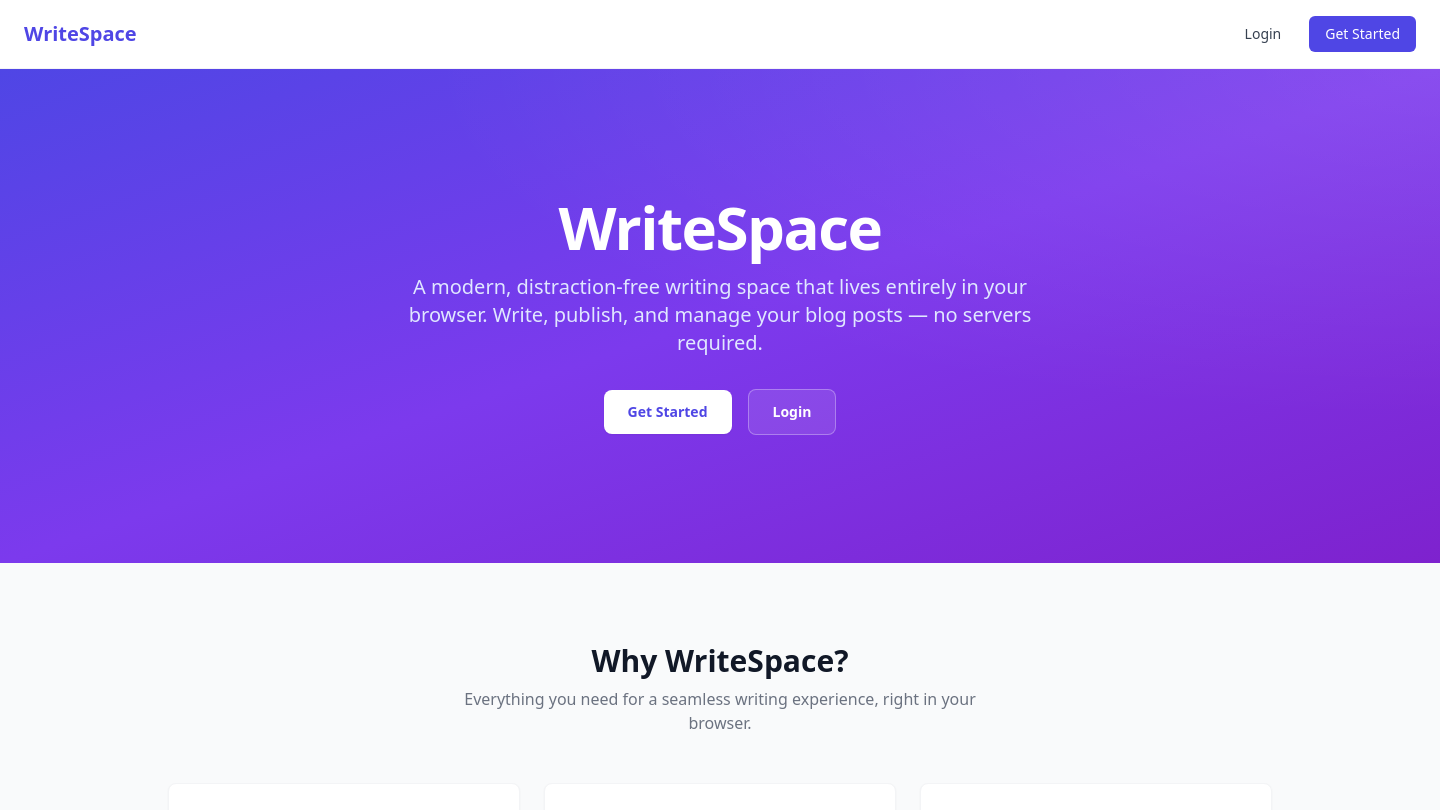
App routing › navigation between pages › navigates from landing page to login page
This screenshot has width=1440, height=810.
Click the 1st link "Login".
click(1263, 34)  # box [1245,24,1281,43]
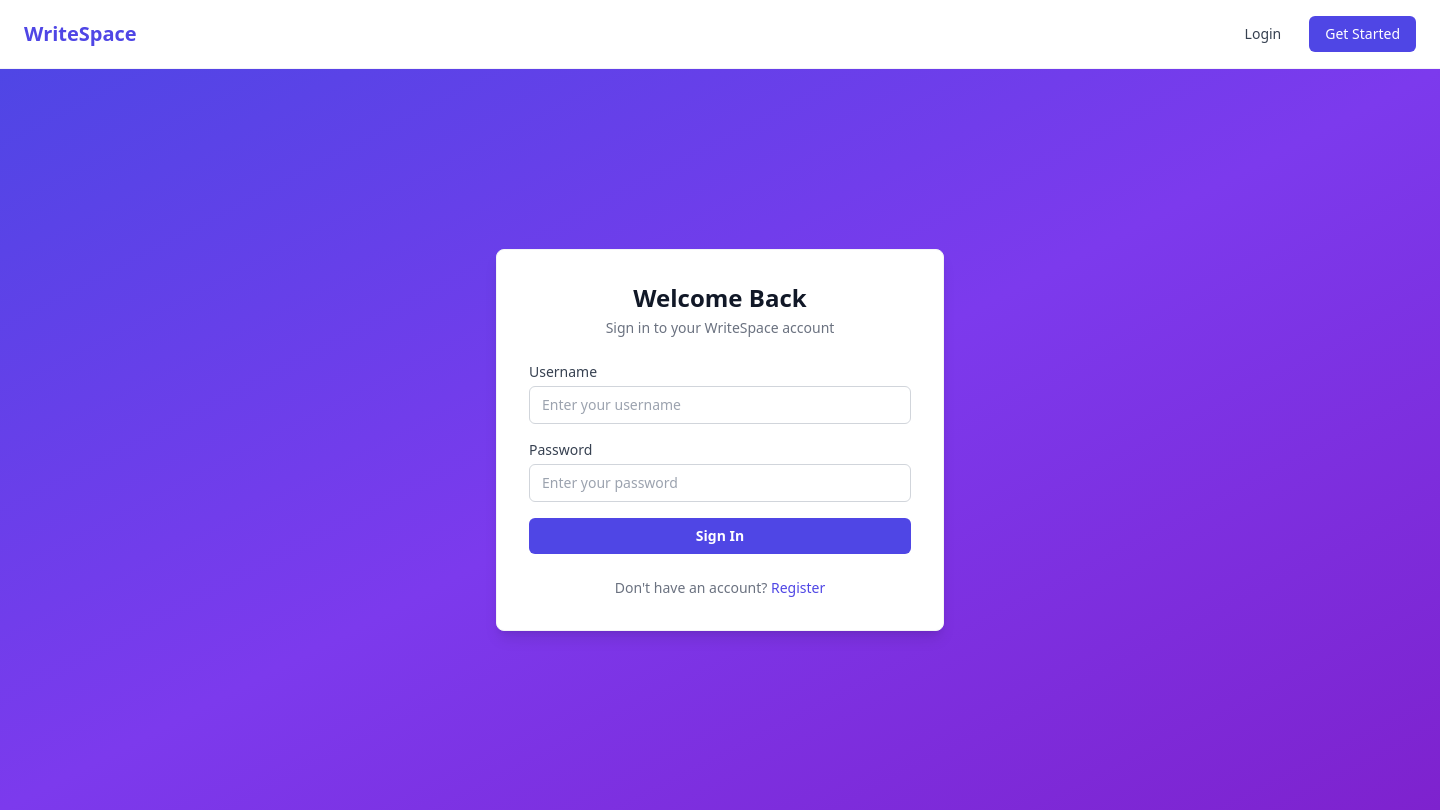
expect the heading "Welcome Back" is shown: met, box [633,280,807,314]
